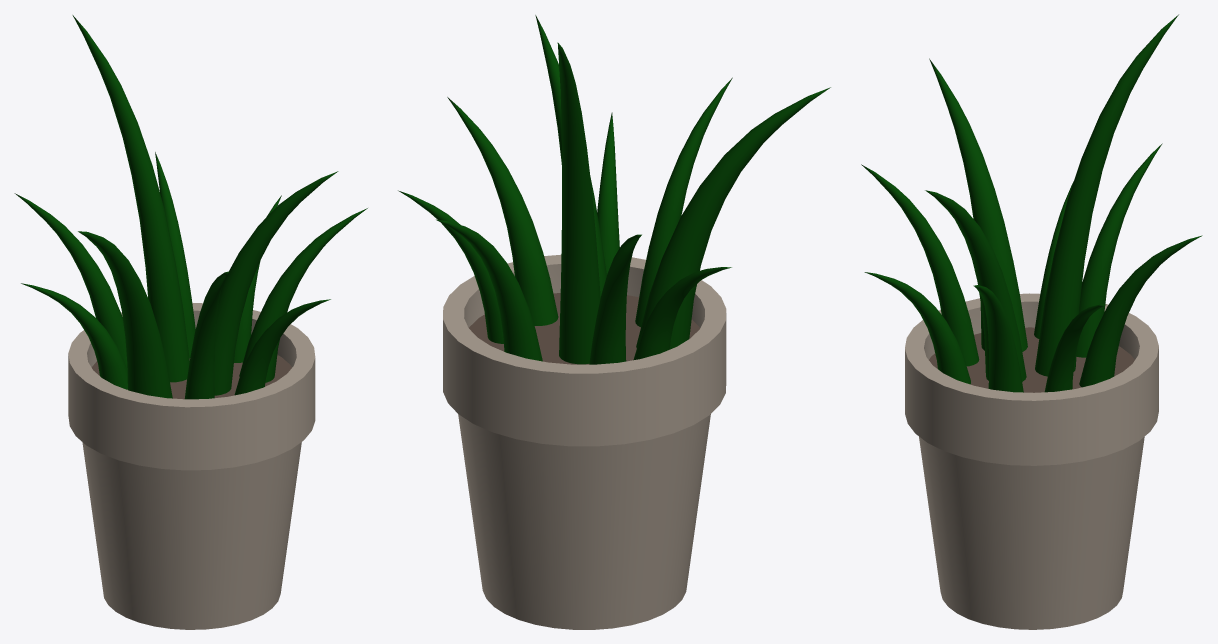
File: Plante5_1.fbx
3 views of the same model, side by side, from view 1: azimuth 30°, elevation 25°; view 2: azimuth 150°, elevation 25°; view 3: azimuth 270°, elevation 25° (orthographic). The views are drawn at different scales.
Visible parts, largest first — view 1: pCylinder723, pCone18, pCone17, pCone15, pCone10, pCone12, pCone14, pCone19, pCone16, pCone11, pCone13, pCylinder722; view 2: pCylinder723, pCone18, pCone17, pCone12, pCone14, pCone11, pCone10, pCone19, pCylinder722, pCone16, pCone13, pCone15; view 3: pCylinder723, pCone18, pCone17, pCone14, pCone10, pCone11, pCone15, pCone12, pCone16, pCylinder722, pCone13, pCone19.
Boxes of the visible parts, x1,y1,x2,y2 form: pCylinder723: (68,303,315,629); pCone18: (72,15,189,382); pCone17: (78,231,172,398); pCone15: (214,171,338,395); pCone10: (14,193,127,370); pCone12: (239,208,367,382); pCone14: (184,271,229,399); pCone19: (21,283,127,389); pCone16: (234,299,330,395); pCone11: (155,152,195,357); pCone13: (234,195,281,362); pCylinder722: (91,355,291,399); pCylinder723: (443,254,726,629); pCone18: (557,42,600,364); pCone17: (636,87,830,349); pCone12: (447,97,558,325); pCone14: (635,77,732,327); pCone11: (436,219,542,361); pCone10: (589,234,641,364); pCone19: (633,267,731,360); pCylinder722: (469,293,700,364); pCone16: (597,112,619,274); pCone13: (398,190,503,343); pCone15: (535,15,606,297); pCylinder723: (905,293,1158,629); pCone18: (1035,14,1178,376); pCone17: (929,58,1027,351); pCone14: (861,164,979,366); pCone10: (1076,143,1162,357); pCone11: (1079,235,1202,387); pCone15: (925,190,1026,381); pCone12: (973,285,1023,392); pCone16: (864,272,970,384); pCylinder722: (929,327,1134,392); pCone13: (1044,304,1105,392); pCone19: (1034,181,1073,338).
Size of the model in its own units: 16.39 by 26.9 by 15.12.
